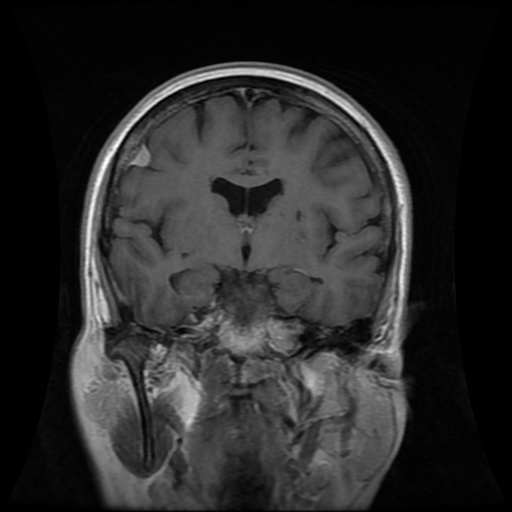meningioma: (131, 142, 151, 165)
